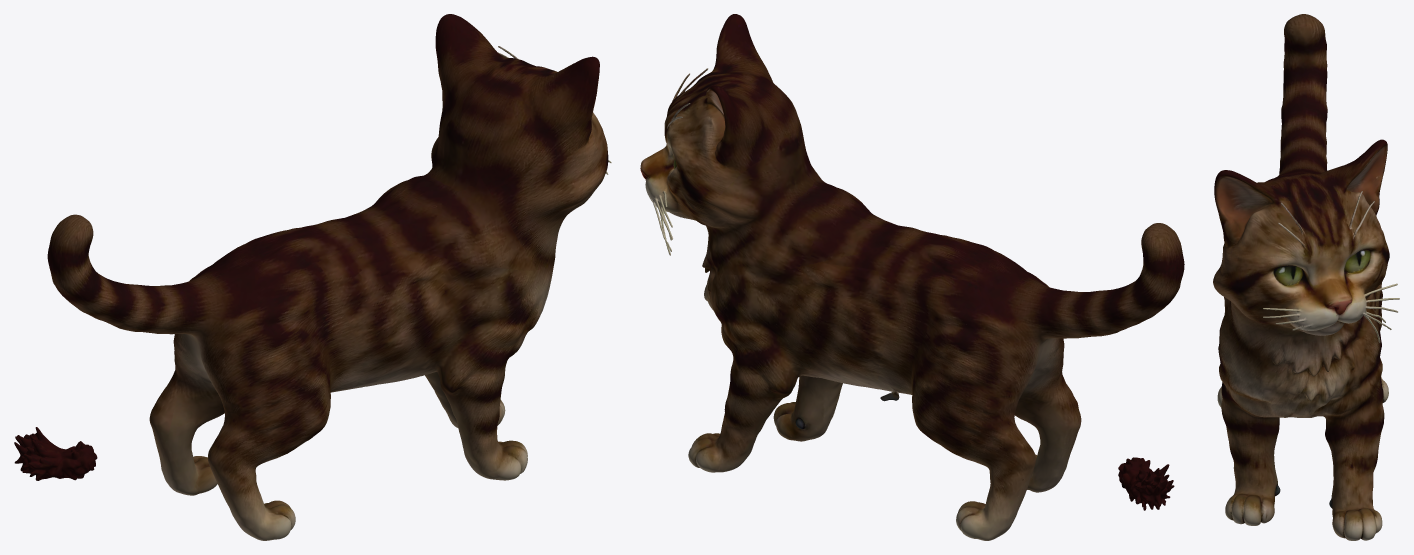
The model's file is cat.glb.
3 views of the same model, side by side, from view 1: azimuth 30°, elevation 25°; view 2: azimuth 150°, elevation 25°; view 3: azimuth 270°, elevation 25° (orthographic). The views are drawn at different scales.
Parts seen in each view (by area): view 1: aiprintgen_node_e5c1757c-c378-4fae-b472-17b1fd39a045; view 2: aiprintgen_node_e5c1757c-c378-4fae-b472-17b1fd39a045; view 3: aiprintgen_node_e5c1757c-c378-4fae-b472-17b1fd39a045.
Part boxes in pixels (box(x1,y1,x2,y2)): aiprintgen_node_e5c1757c-c378-4fae-b472-17b1fd39a045: box(14, 14, 611, 540); aiprintgen_node_e5c1757c-c378-4fae-b472-17b1fd39a045: box(640, 14, 1184, 540); aiprintgen_node_e5c1757c-c378-4fae-b472-17b1fd39a045: box(1213, 14, 1399, 540).
Size of the model in its own units: 1 by 0.7016 by 0.3072.
Materials: 1 (1 with a texture image).
